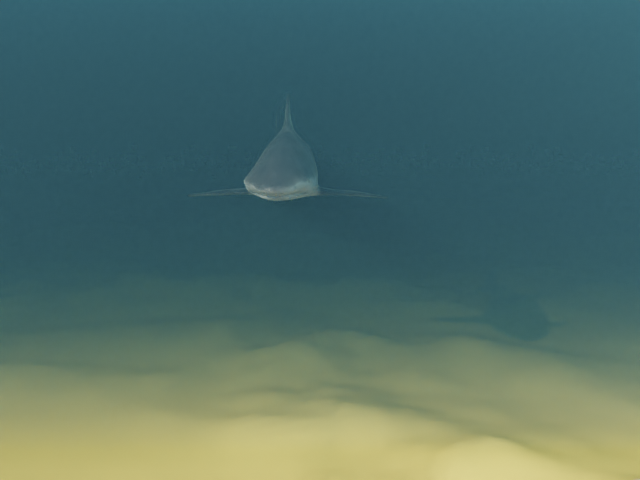Carribean Shark.001: (187, 93, 388, 200)
